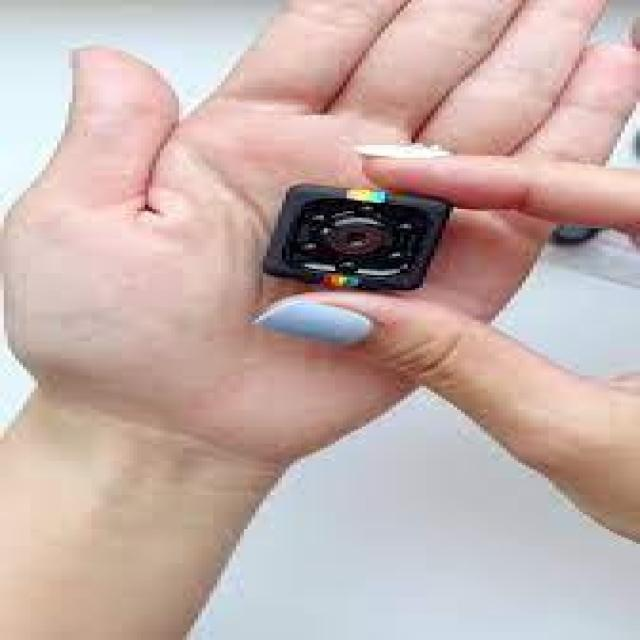hidden camera: (346, 232, 369, 247)
